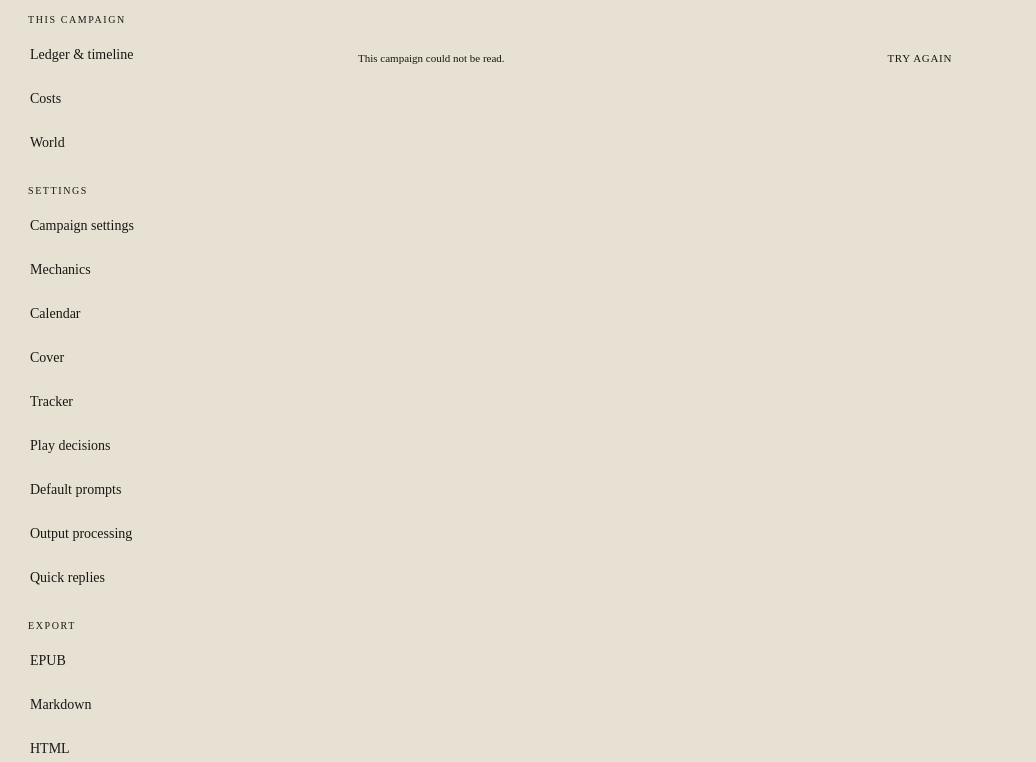
Test: Try again reads the campaign again
The image size is (1036, 762).
Click the button "Try again" at (920, 58), box [876,46,964,70]
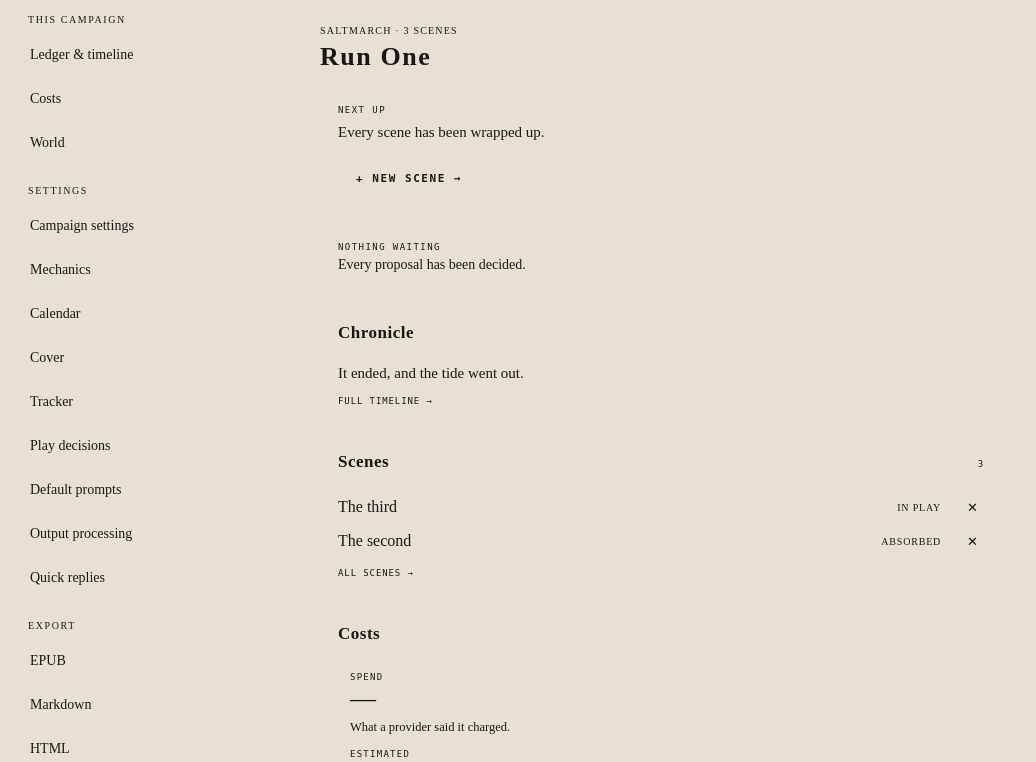
Expected: the heading "Run One" is shown, [320,42,431,70]
